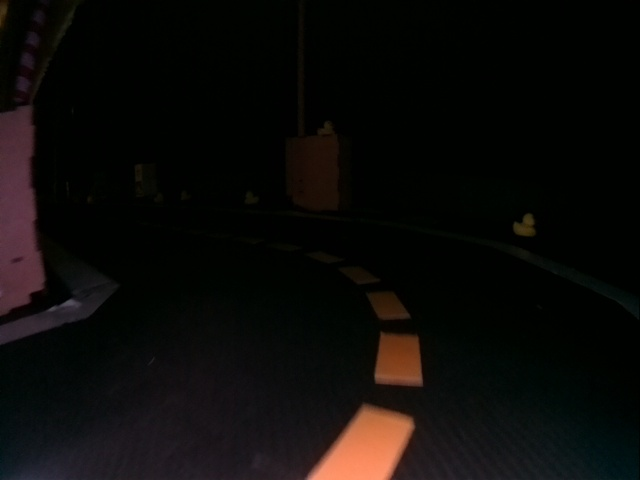Duckie: (513, 213, 536, 235), (319, 122, 333, 134), (244, 192, 257, 203), (180, 191, 189, 200), (154, 192, 163, 201)
